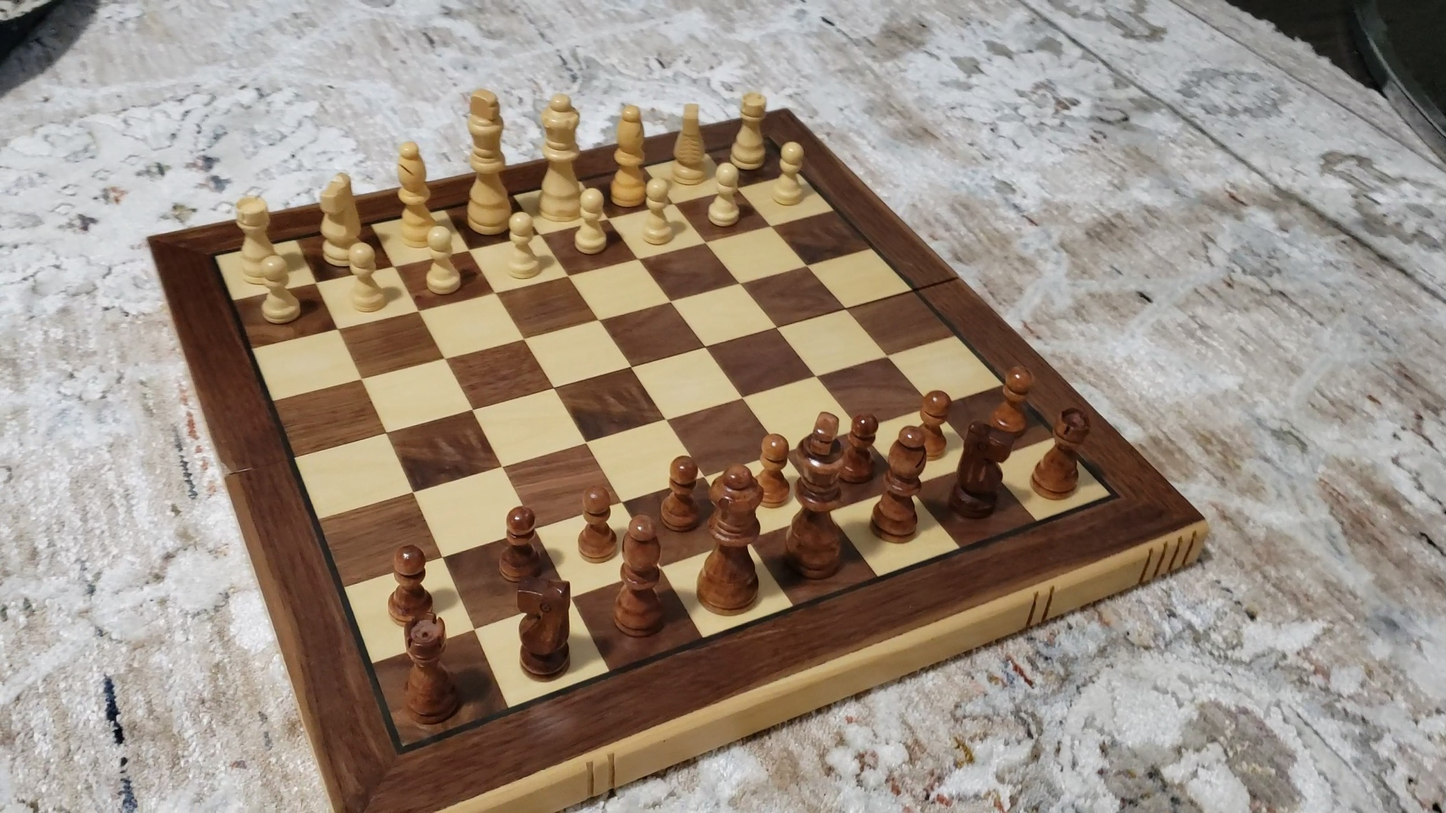black-bishop: (873, 423, 933, 544), (615, 514, 664, 637)
black-king: (783, 408, 854, 580)
black-knight: (948, 409, 1023, 521), (513, 576, 572, 681)
black-pawn: (984, 357, 1039, 451), (385, 541, 435, 629), (495, 502, 544, 587), (577, 483, 620, 566), (661, 452, 703, 534), (840, 409, 882, 486), (752, 429, 790, 510), (914, 385, 955, 457)
black-queen: (696, 462, 765, 617)
black-rook: (400, 616, 462, 727), (1030, 406, 1091, 501)
white-bishop: (393, 137, 434, 252), (611, 99, 647, 210)
white-king: (460, 84, 513, 239)
white-knight: (315, 170, 363, 269), (672, 97, 711, 188)
white-pawn: (248, 250, 309, 330), (415, 218, 469, 301), (631, 169, 683, 251), (339, 237, 390, 318), (765, 136, 816, 213), (498, 208, 548, 286), (700, 155, 748, 234), (568, 183, 614, 261)
white-queen: (538, 90, 584, 224)
white-rook: (232, 189, 286, 279), (728, 86, 772, 175)
